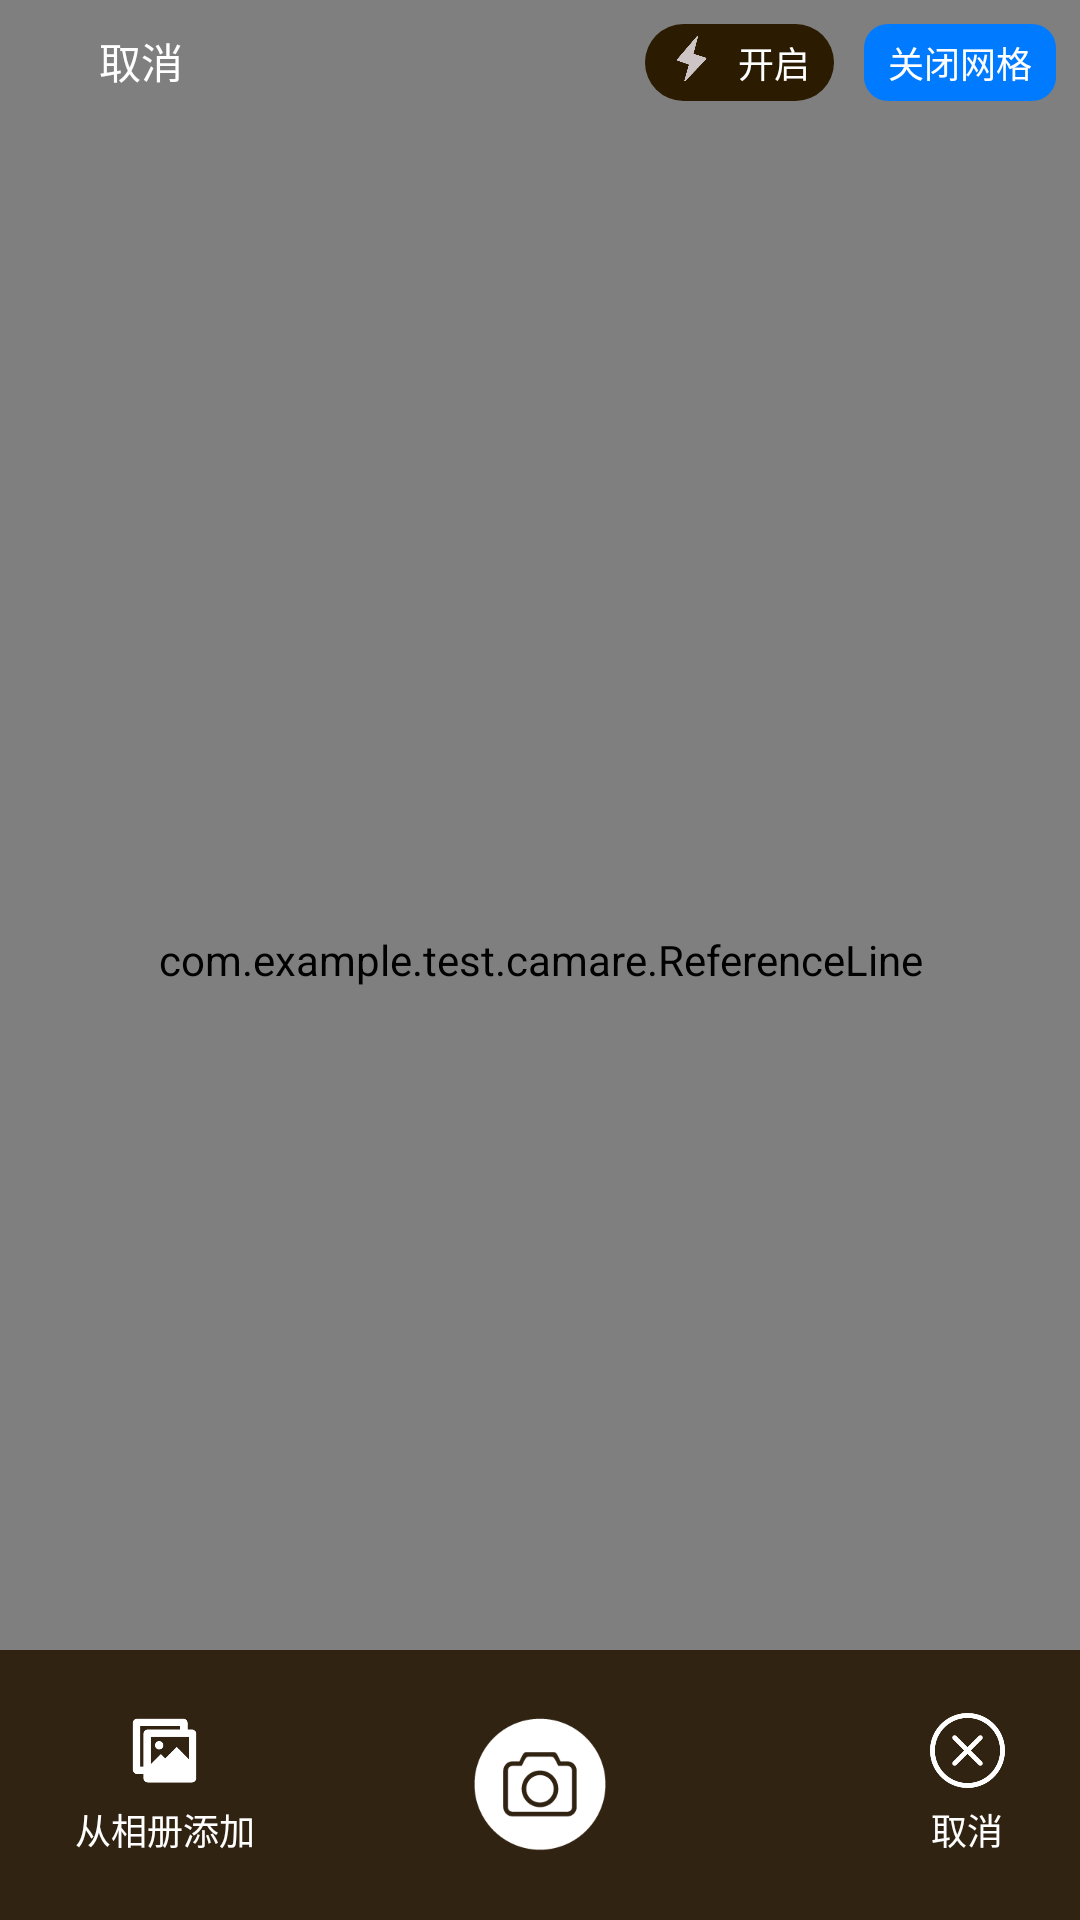

Locate icon controls on the screen. Image size 1080 x 1920, boxes as (x1,y1,x2,y2).
flash: (677,36,707,81)
takephote: (474,1718,606,1850)
